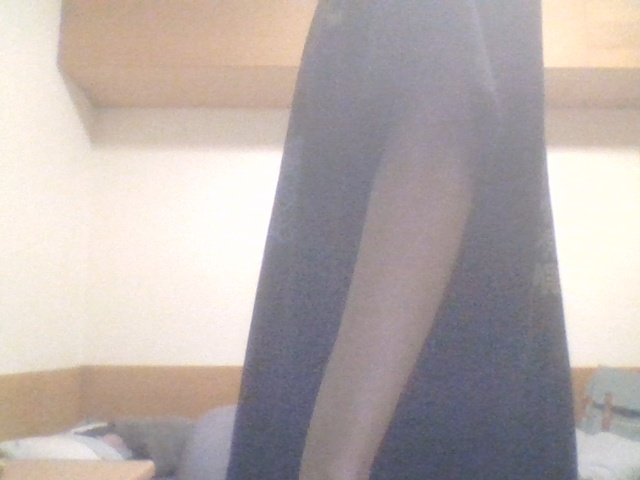human: (227, 1, 579, 480)
